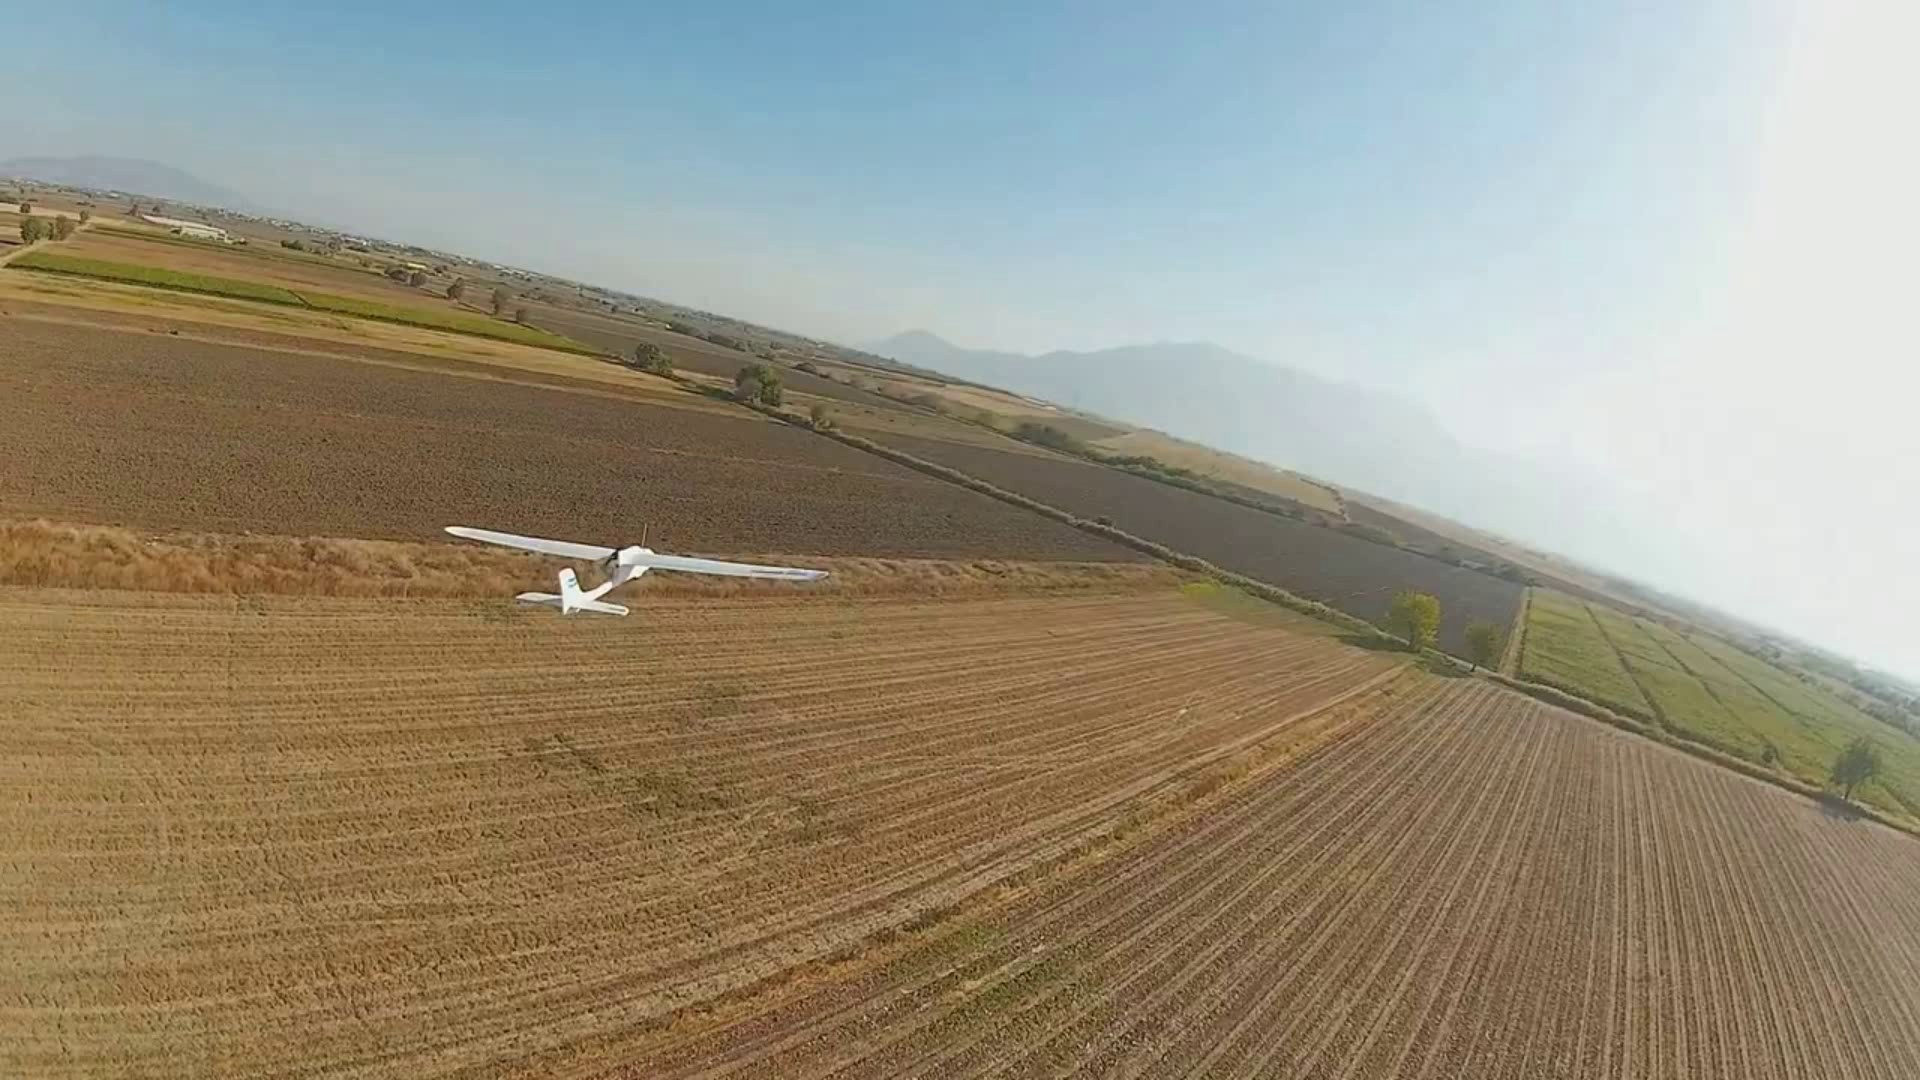airplane: (440, 524, 828, 615)
